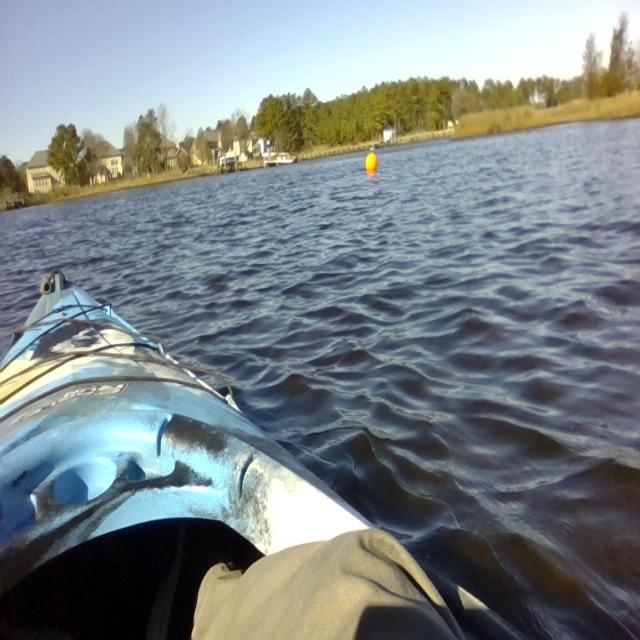Buoy: (364, 149, 380, 182)
